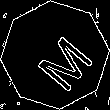M_NW: (21, 21, 89, 89)
